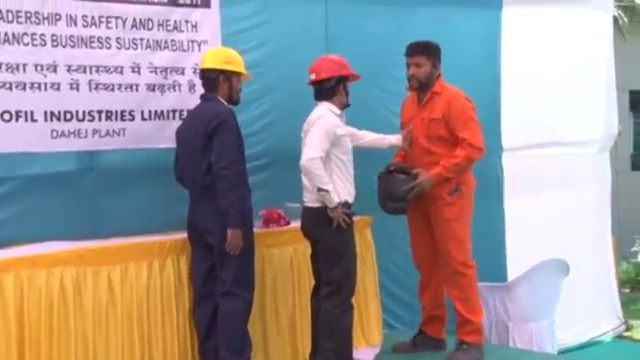helmet: (197, 42, 253, 83), (306, 51, 362, 86)
helmet_off: (404, 38, 443, 93)
helmet_on: (304, 50, 363, 113), (196, 42, 253, 107)
person: (297, 52, 413, 360), (401, 38, 487, 360), (171, 42, 256, 360)
